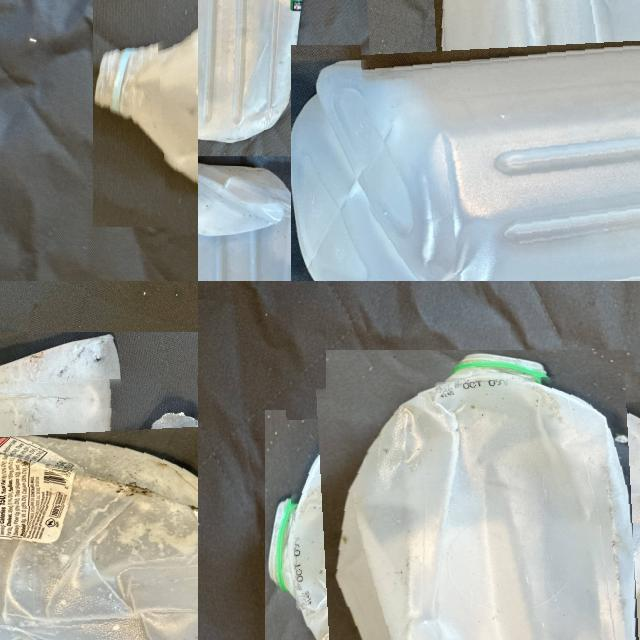milk-jug: (290, 375, 640, 640), (363, 0, 640, 281), (0, 378, 198, 640), (198, 0, 316, 155), (198, 163, 327, 281), (156, 0, 198, 281)
